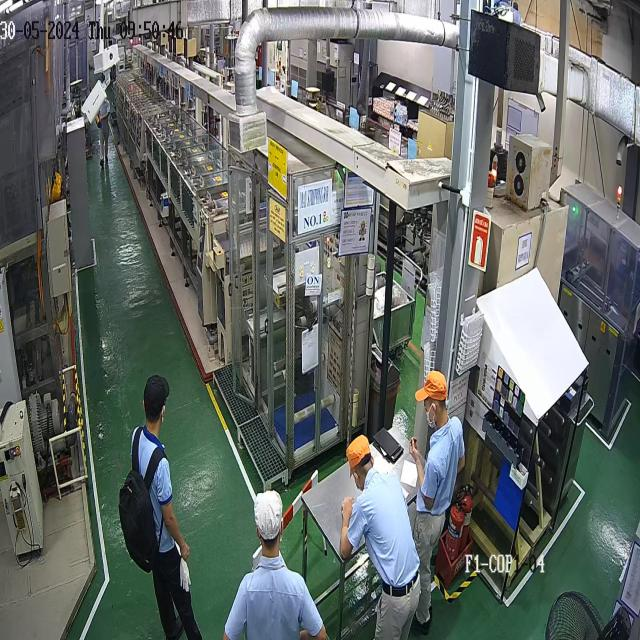Person: (130, 374, 203, 640), (340, 434, 421, 639), (223, 490, 327, 640), (408, 370, 466, 634)
